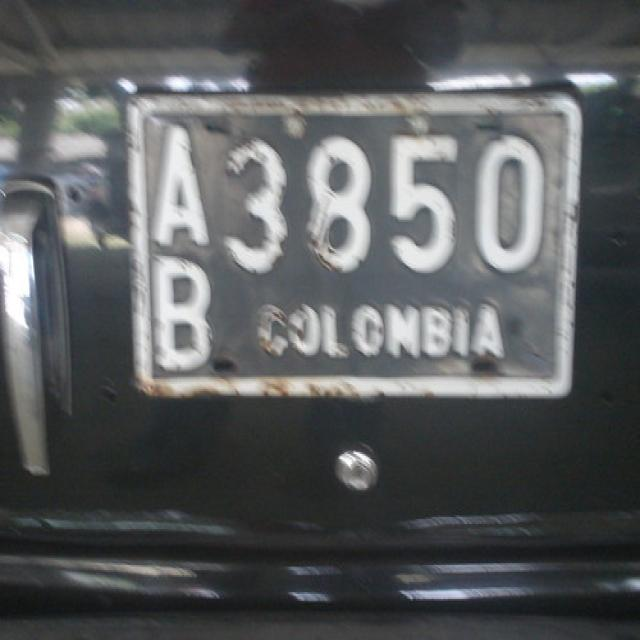placas: (145, 115, 563, 297)
